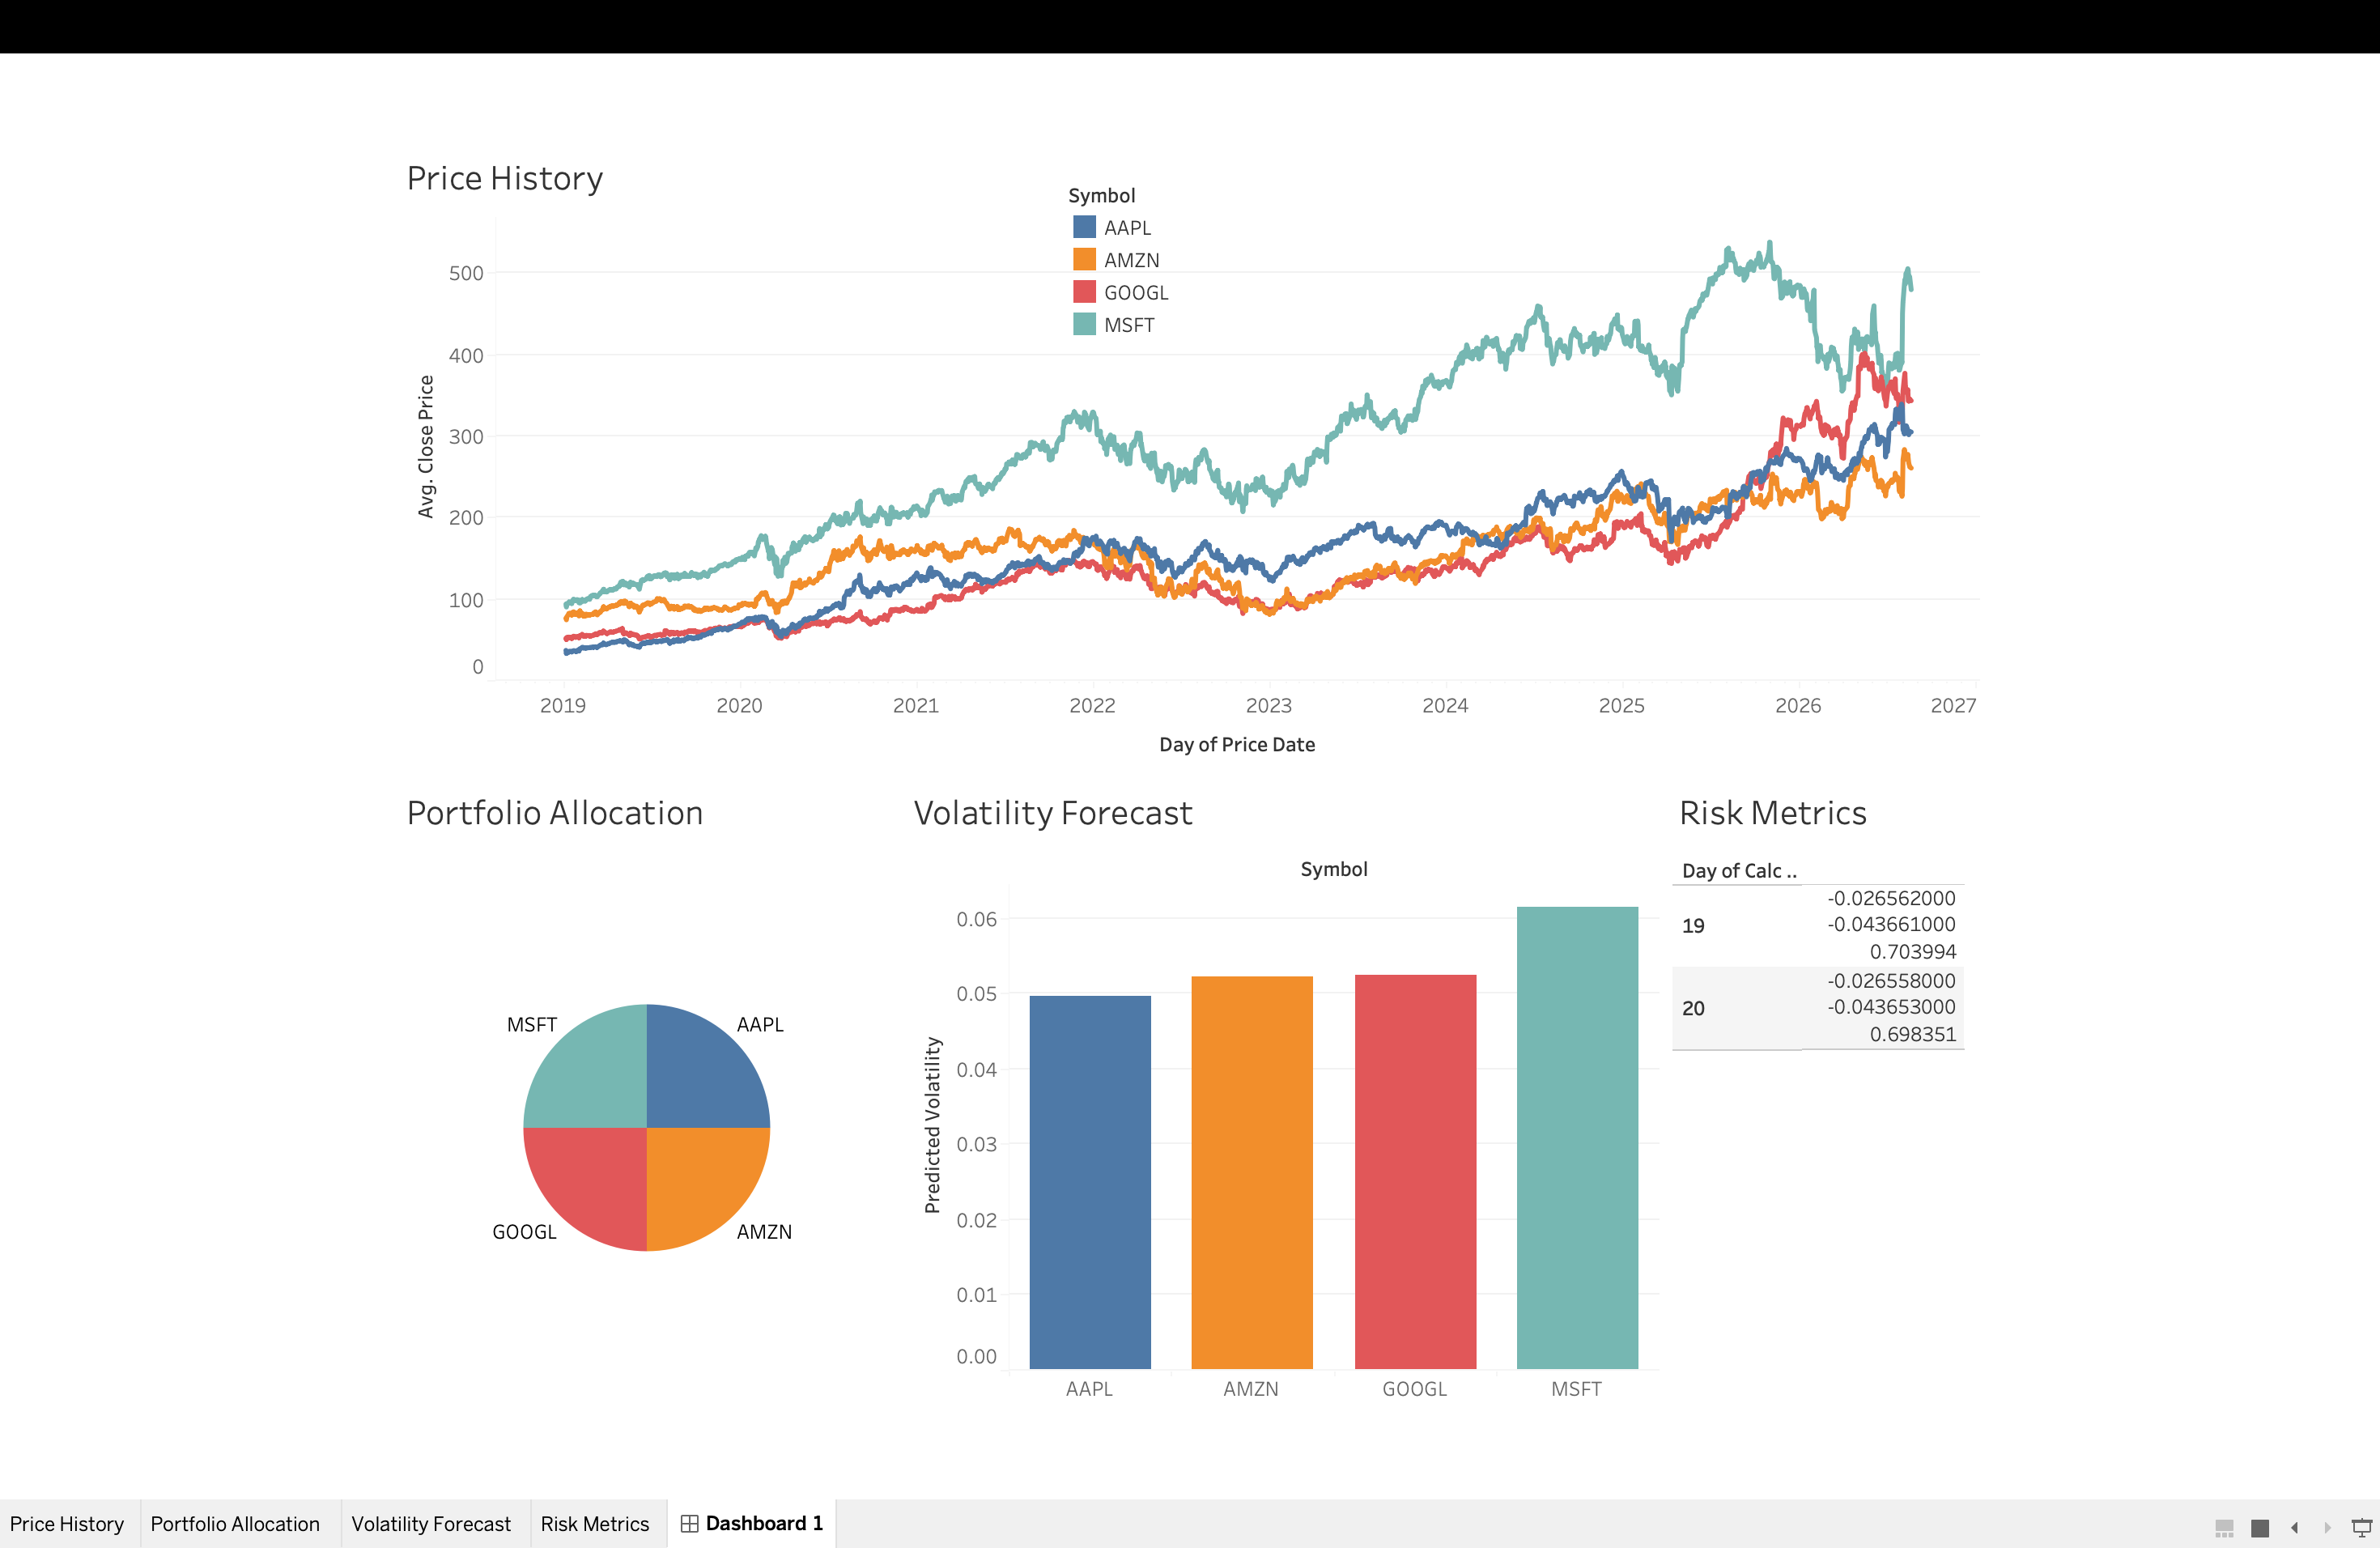

What the dashboard file says about the page in this screenshot:
{"tool":"tableau","page":{"name":"Dashboard 1","canvas":[1000,800],"ordinal":0},"visuals":[{"type":"worksheet","title":"Price History","mark":"Automatic","rows":["close_price"],"cols":["price_date"],"box":[8,8,984,392]},{"type":"legend","title":"Price History","param":"[federated.09zsb5w0i3i38z19jqcp6182u4ex].[none:symbol:nk]","box":[425,33,140,98]},{"type":"worksheet","title":"Portfolio Allocation","mark":"Pie","box":[8,400,313,392]},{"type":"worksheet","title":"Volatility Forecast","mark":"Automatic","rows":["predicted_volatility"],"cols":["symbol"],"box":[321,400,473,392]},{"type":"worksheet","title":"Risk Metrics","mark":"Automatic","rows":["calc_date"],"box":[794,400,198,392]}]}

Visuals, with their boxes on the page's 1000x800 design canvas (x1, y1, x2, y2). These are canvas units, not pixel positions in the 2380x1548 screenshot, which may show the page scaled, cropped or inside an application window:
"Price History" worksheet: [left=8, top=8, right=992, bottom=400]
"Price History" legend: [left=425, top=33, right=565, bottom=131]
"Portfolio Allocation" worksheet (Pie marks): [left=8, top=400, right=321, bottom=792]
"Volatility Forecast" worksheet: [left=321, top=400, right=794, bottom=792]
"Risk Metrics" worksheet: [left=794, top=400, right=992, bottom=792]
